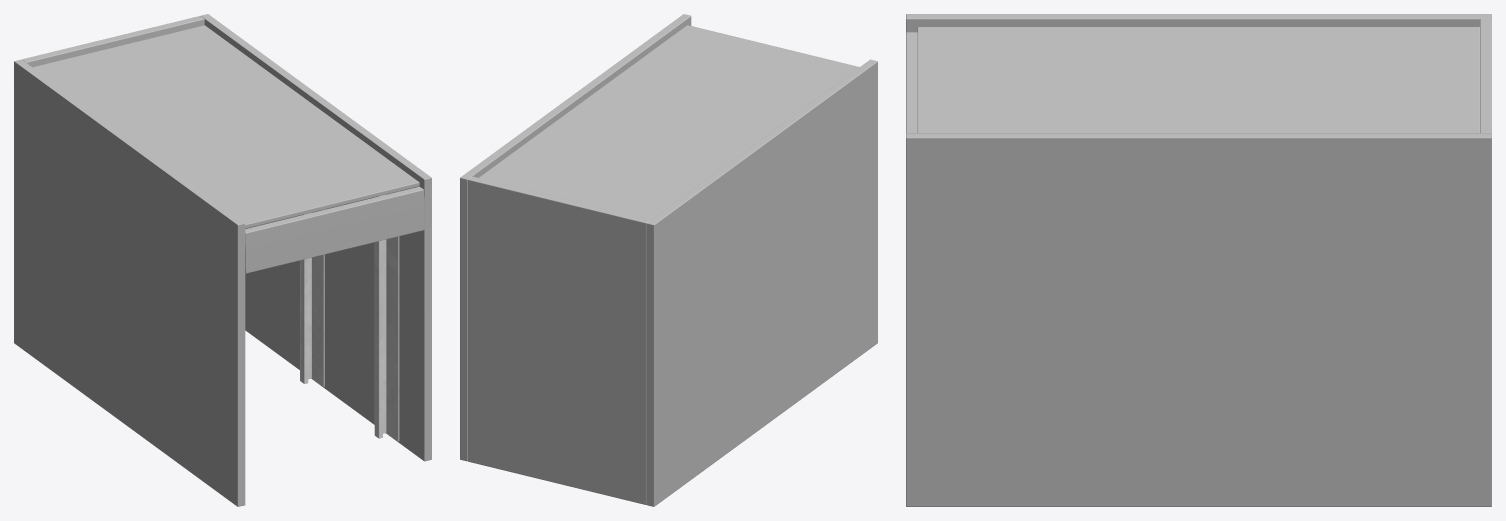
The model's file is SM_Kitchen_10_Base.obj.
3 views of the same model, side by side, from view 1: azimuth 30°, elevation 25°; view 2: azimuth 150°, elevation 25°; view 3: azimuth 270°, elevation 25° (orthographic). The views are drawn at different scales.
Visible parts, largest first — view 1: SM_Kitchen_10_Base; view 2: SM_Kitchen_10_Base; view 3: SM_Kitchen_10_Base.
Boxes of the visible parts, x1,y1,x2,y2 form: SM_Kitchen_10_Base: (14, 14, 431, 506); SM_Kitchen_10_Base: (460, 14, 877, 506); SM_Kitchen_10_Base: (906, 14, 1491, 506).
Bounding box in the file's own units: 0.4 × 0.5549 × 0.798.
2 materials, 1 textured.
